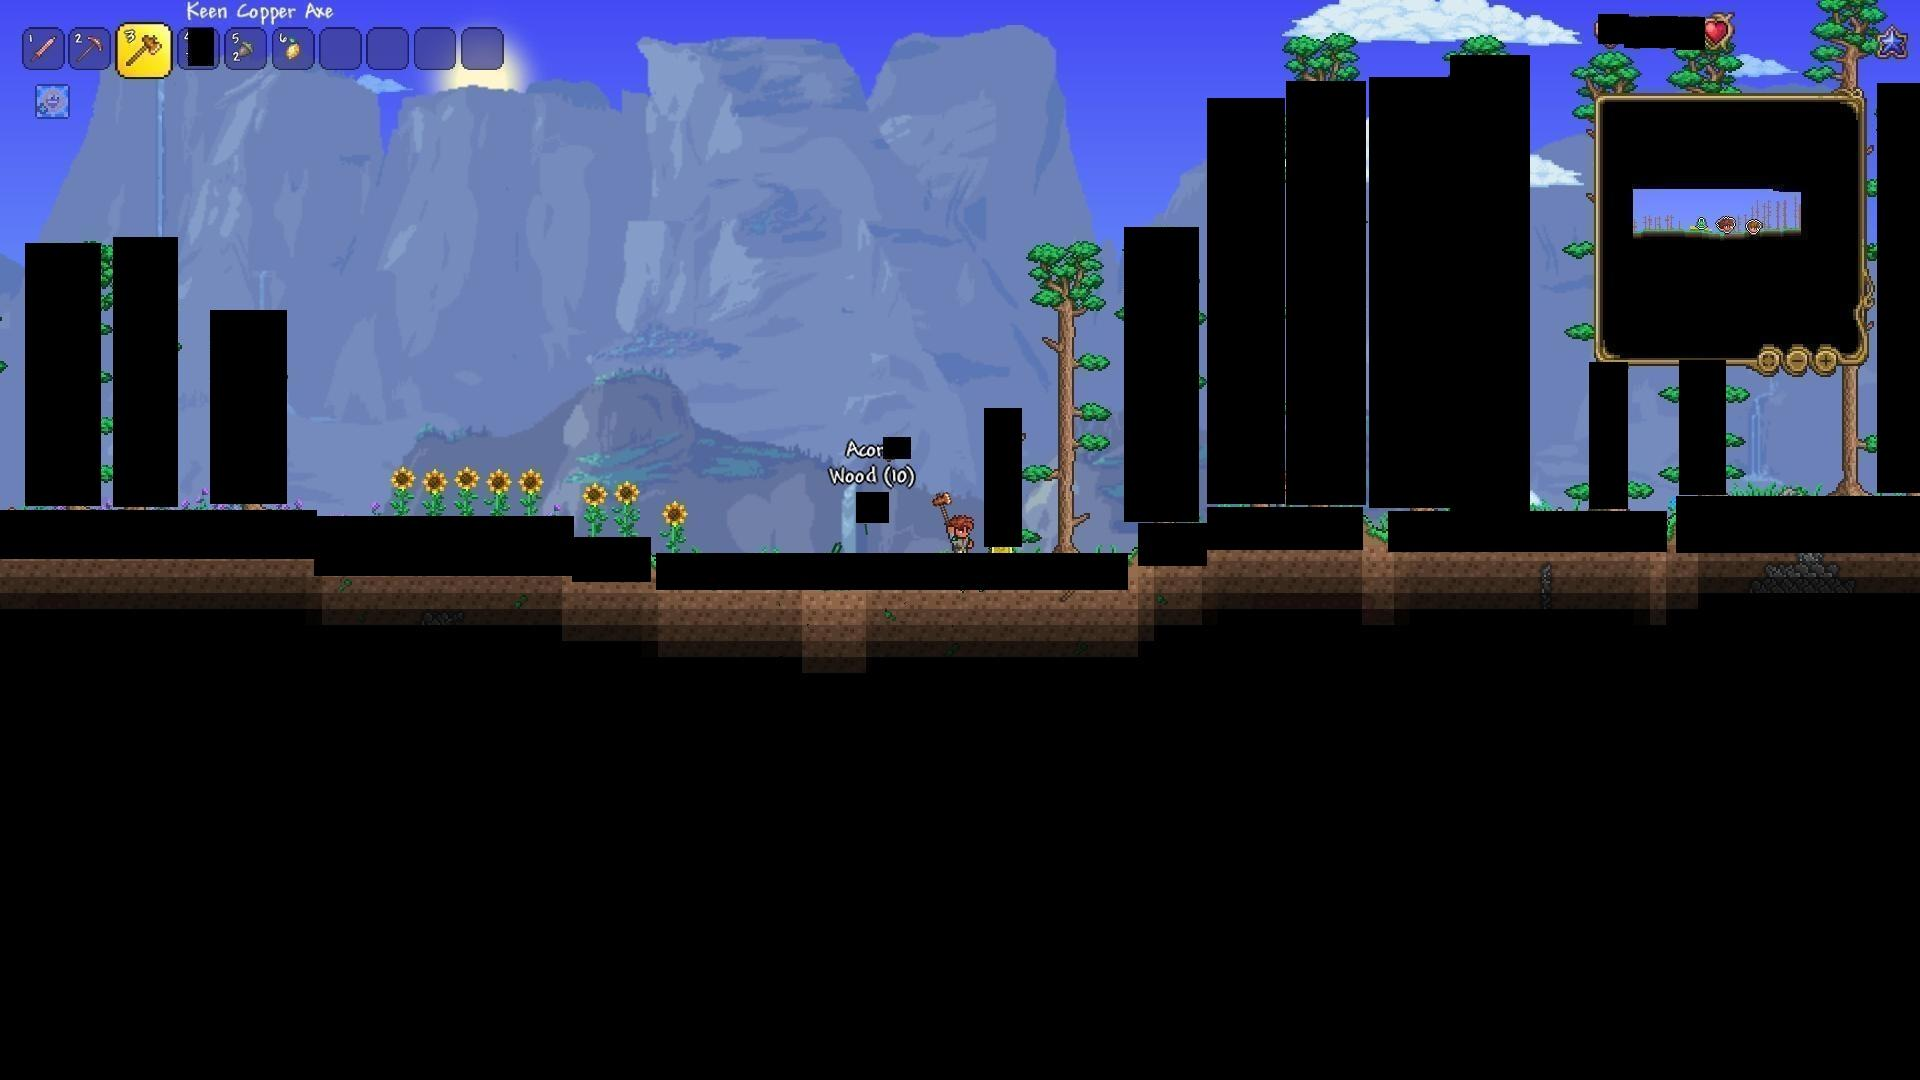heart: (1702, 18, 1731, 50)
tree: (1033, 231, 1100, 549)
